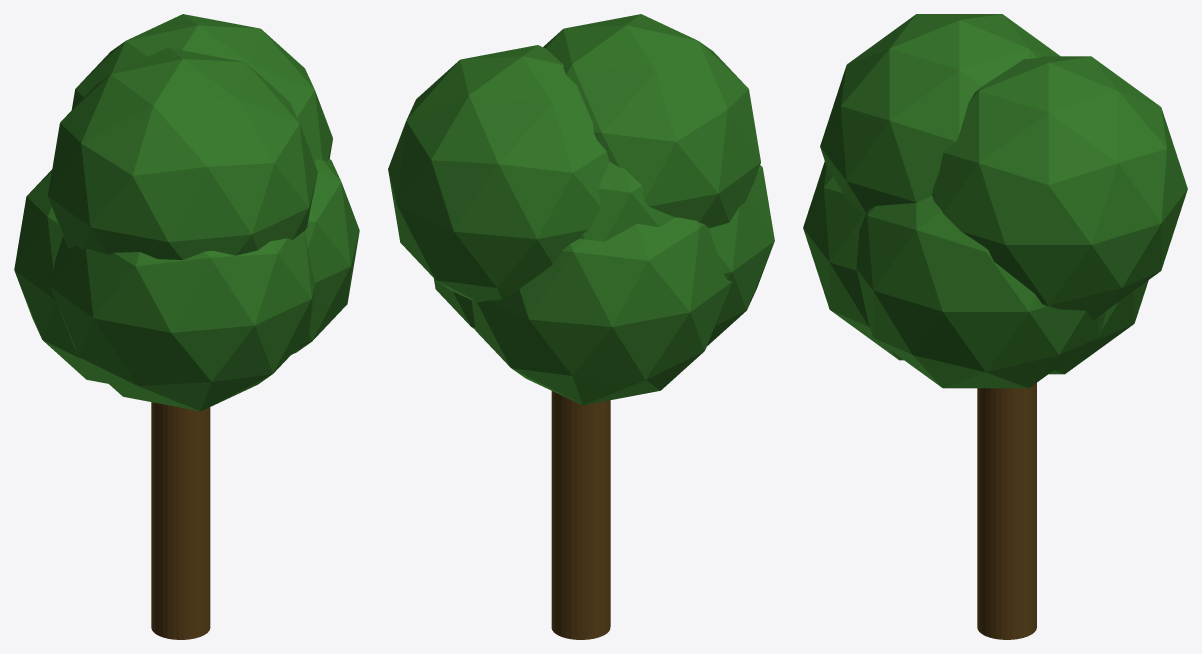
Rendered from Tree_1.glb.
The picture shows the model from 3 angles, left to right: view 1: azimuth 30°, elevation 25°; view 2: azimuth 150°, elevation 25°; view 3: azimuth 270°, elevation 25°; orthographic projection.
Parts seen in each view (by area): view 1: Icosphere.005, Icosphere.001, Cylinder, Icosphere.002, Icosphere.003, Icosphere.004; view 2: Icosphere.002, Icosphere.004, Icosphere.005, Cylinder, Icosphere.001, Icosphere, Icosphere.003; view 3: Icosphere.002, Icosphere.003, Icosphere.005, Cylinder, Icosphere.001, Icosphere.004.
Boxes of the visible parts, x1,y1,x2,y2 form: Icosphere.005: (48, 47, 317, 259); Icosphere.001: (51, 231, 315, 411); Cylinder: (151, 402, 210, 639); Icosphere.002: (71, 14, 332, 161); Icosphere.003: (291, 158, 359, 354); Icosphere.004: (14, 169, 108, 383); Icosphere.002: (388, 45, 609, 302); Icosphere.004: (471, 217, 732, 405); Icosphere.005: (543, 14, 760, 228); Cylinder: (551, 391, 610, 639); Icosphere.001: (707, 165, 774, 345); Icosphere: (580, 161, 674, 241); Icosphere.003: (433, 278, 475, 329); Icosphere.002: (932, 56, 1187, 320); Icosphere.003: (856, 196, 1105, 388); Icosphere.005: (820, 14, 1060, 214); Cylinder: (977, 383, 1036, 639); Icosphere.001: (803, 161, 903, 360); Icosphere.004: (1049, 280, 1148, 374).
Size of the model in its own units: 2.44 by 4.72 by 2.76.
